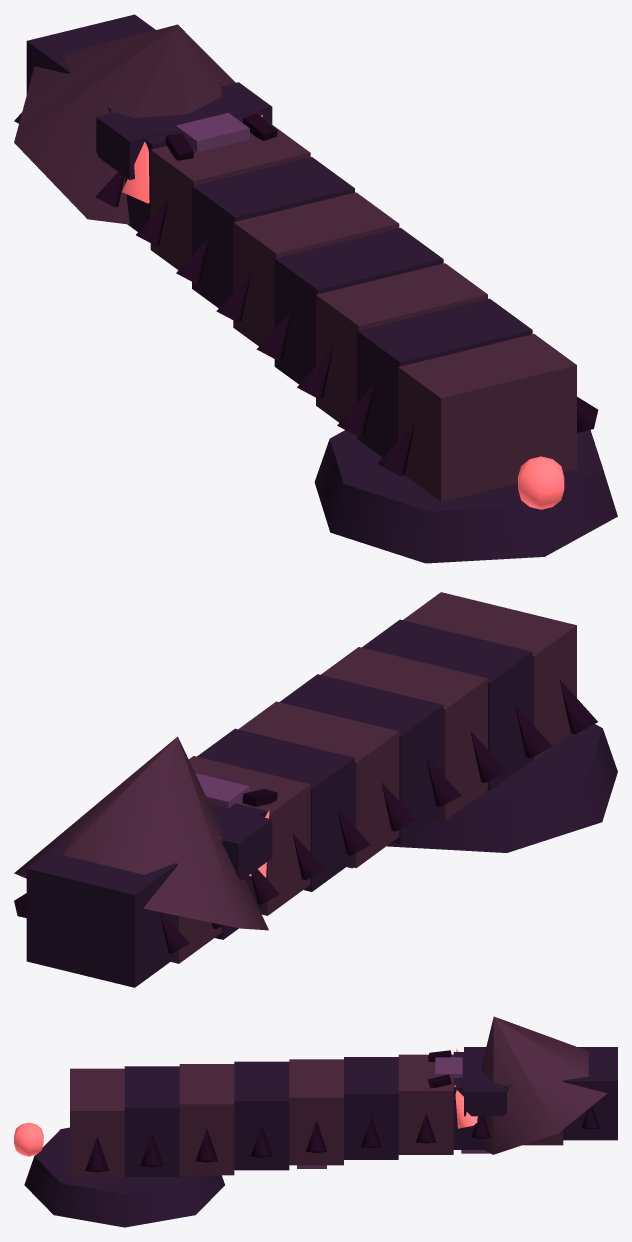
The model's file is DeathwormB.glb.
3 views of the same model, one above another, from view 1: azimuth 30°, elevation 25°; view 2: azimuth 150°, elevation 25°; view 3: azimuth 270°, elevation 25° (orthographic). The views are drawn at different scales.
Parts seen in each view (by area): view 1: DeathwormBody; view 2: DeathwormBody; view 3: DeathwormBody.
Boxes of the visible parts, x1,y1,x2,y2 form: DeathwormBody: [14, 14, 617, 563]; DeathwormBody: [14, 592, 617, 987]; DeathwormBody: [14, 1016, 617, 1227].
Size of the model in its own units: 0.88 by 0.8153 by 2.65.
